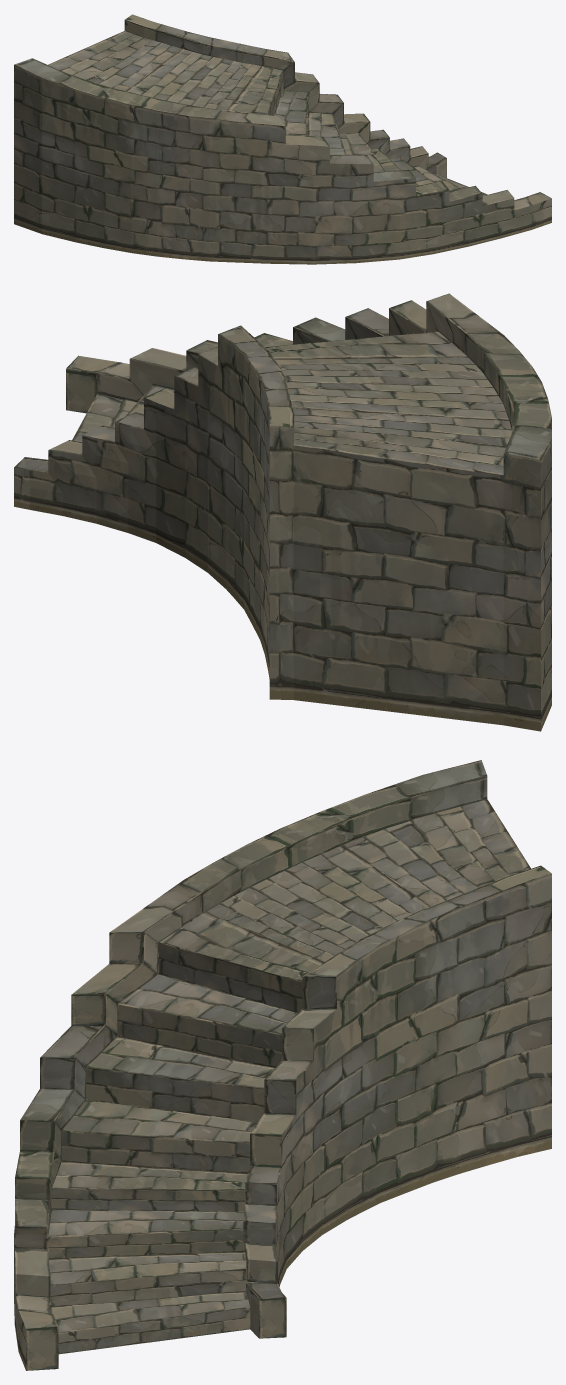
Rendered from C_Stair02.fbx.
3 views of the same model, one above another, from view 1: azimuth 30°, elevation 25°; view 2: azimuth 150°, elevation 25°; view 3: azimuth 270°, elevation 25° (orthographic). The views are drawn at different scales.
Visible parts, largest first — view 1: C_Stair02; view 2: C_Stair02; view 3: C_Stair02.
Boxes of the visible parts, x1,y1,x2,y2 form: C_Stair02: (14,14,551,264); C_Stair02: (14,293,551,731); C_Stair02: (14,760,551,1370).
Size of the model in its own units: 666 by 253 by 448.
